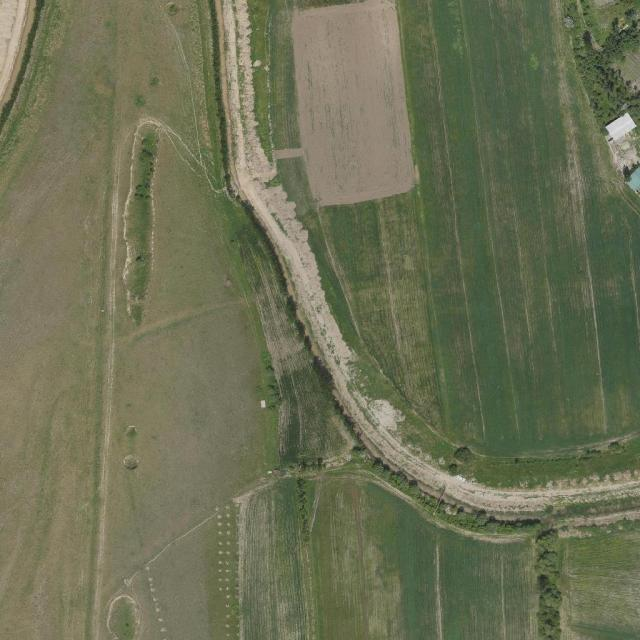building: (603, 112, 636, 142)
greenland: (232, 206, 356, 468), (593, 0, 619, 10)
